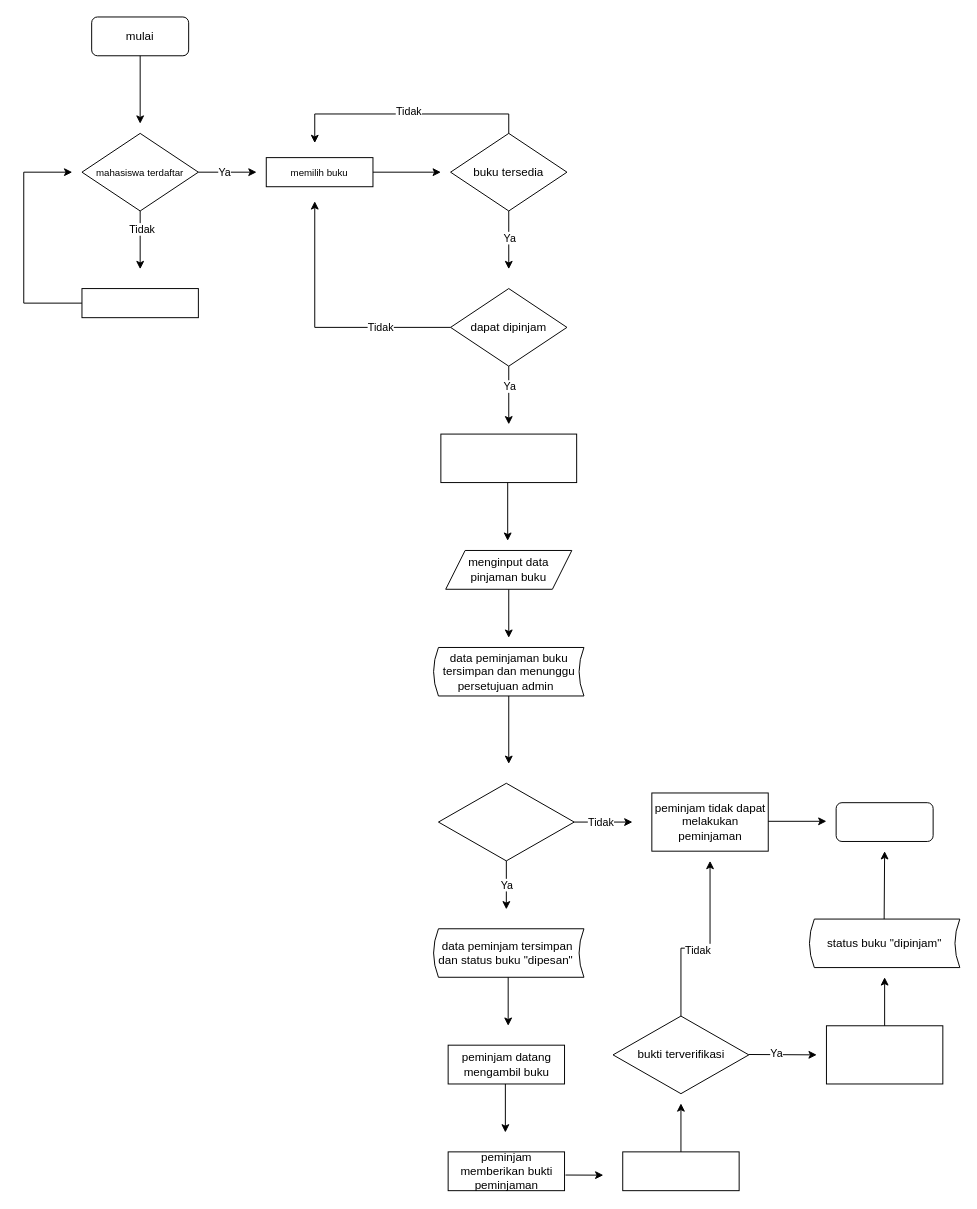
Some shapes in this 977 by 1209 pixel diagram are drawn without their labels. The shapes that lost their labels are listed below. From the top down, each one's centre as x and y in pixels, then its label:
At point 139,303: "melakukan registrasi".
At point 508,458: "mencatat tanggal peminjaman dan pengembalian".
At point 505,821: "admin menyetujui pengajuan peminjaman buku".
At point 884,821: "selesai".
At point 884,1054: "peminjam berhasil melakukan peminjaman".
At point 680,1171: "petugas memverifikasi".
